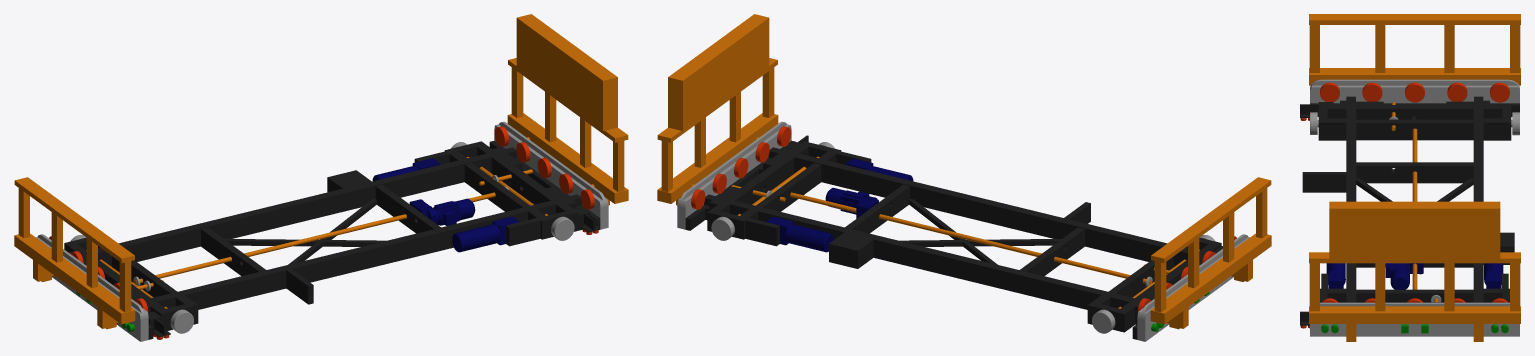
Rendered from SHUTTLE.obj.
The picture shows the model from 3 angles, left to right: view 1: azimuth 30°, elevation 25°; view 2: azimuth 150°, elevation 25°; view 3: azimuth 270°, elevation 25°; orthographic projection.
Visible parts, largest first — view 1: Mesh, Mesh.002, Mesh.001, P072802, P072718, P072802.001, P072724.001, P072723, P072724; view 2: Mesh, Mesh.002, Mesh.001, P072802, P072718, P072802.001, P072724, P072723, P072724.001; view 3: Mesh.002, Mesh, Mesh.001, P072802.001, P072802, P072723, P072718, P072724, P072724.001, P072673.005, P072673.008, P072673.007 (+4 smaller).
Part boxes in pixels (x1=…): Mesh: x1=64, y1=140, x2=600, y2=339; Mesh.002: x1=507, y1=14, x2=628, y2=205; Mesh.001: x1=14, y1=177, x2=135, y2=329; P072802: x1=494, y1=121, x2=608, y2=229; P072718: x1=134, y1=192, x2=495, y2=284; P072802.001: x1=36, y1=234, x2=148, y2=341; P072724.001: x1=452, y1=216, x2=519, y2=252; P072723: x1=409, y1=198, x2=475, y2=225; P072724: x1=372, y1=158, x2=440, y2=181; Mesh: x1=685, y1=135, x2=1222, y2=339; Mesh.002: x1=657, y1=14, x2=778, y2=205; Mesh.001: x1=1150, y1=177, x2=1271, y2=329; P072802: x1=677, y1=121, x2=791, y2=229; P072718: x1=790, y1=192, x2=1151, y2=284; P072802.001: x1=1137, y1=234, x2=1249, y2=341; P072724: x1=766, y1=216, x2=833, y2=252; P072723: x1=825, y1=187, x2=878, y2=218; P072724.001: x1=845, y1=158, x2=913, y2=181; Mesh.002: x1=1309, y1=201, x2=1520, y2=341; Mesh: x1=1300, y1=96, x2=1519, y2=325; Mesh.001: x1=1309, y1=14, x2=1520, y2=85; P072802.001: x1=1310, y1=79, x2=1519, y2=103; P072802: x1=1310, y1=302, x2=1519, y2=336; P072723: x1=1385, y1=263, x2=1423, y2=289; P072718: x1=1412, y1=128, x2=1417, y2=289; P072724: x1=1484, y1=263, x2=1503, y2=288; P072724.001: x1=1326, y1=263, x2=1345, y2=288; P072673.005: x1=1490, y1=82, x2=1509, y2=102; P072673.008: x1=1405, y1=82, x2=1424, y2=102; P072673.007: x1=1362, y1=82, x2=1382, y2=101.
Bounding box in the file's own units: 5800 × 1540 × 2210.
